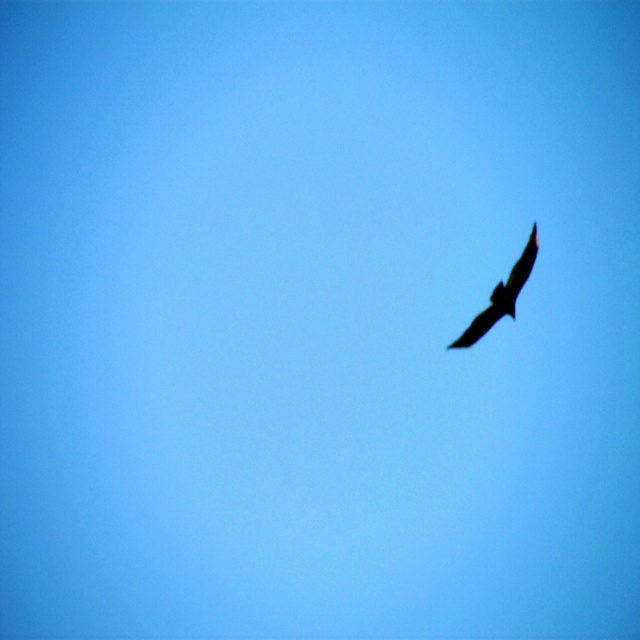Eagle: (448, 221, 540, 356)
